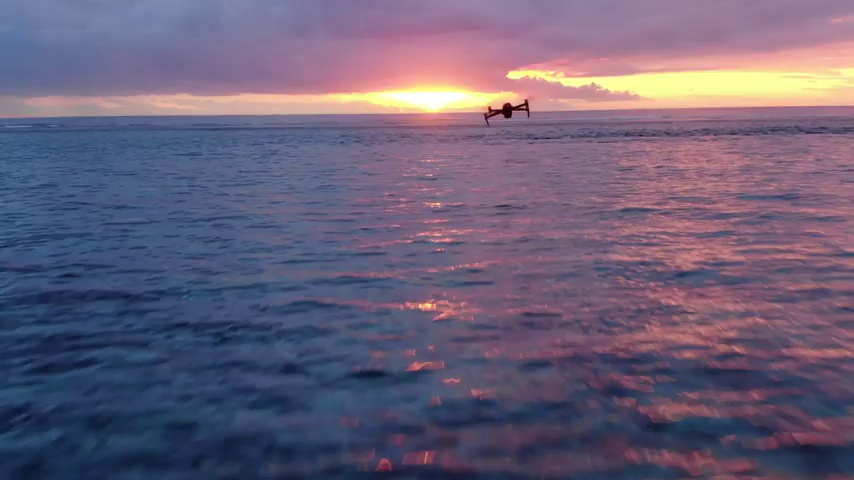drone: (482, 97, 529, 125)
